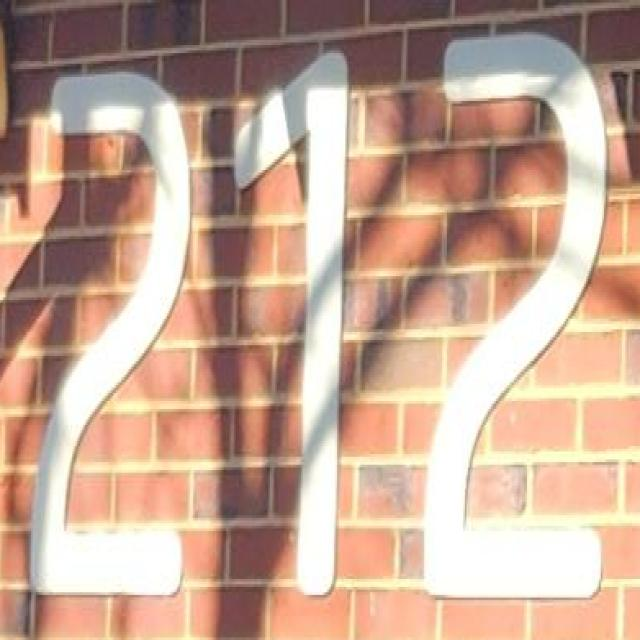character: (420, 26, 612, 606), (27, 58, 198, 604), (230, 44, 353, 606)
